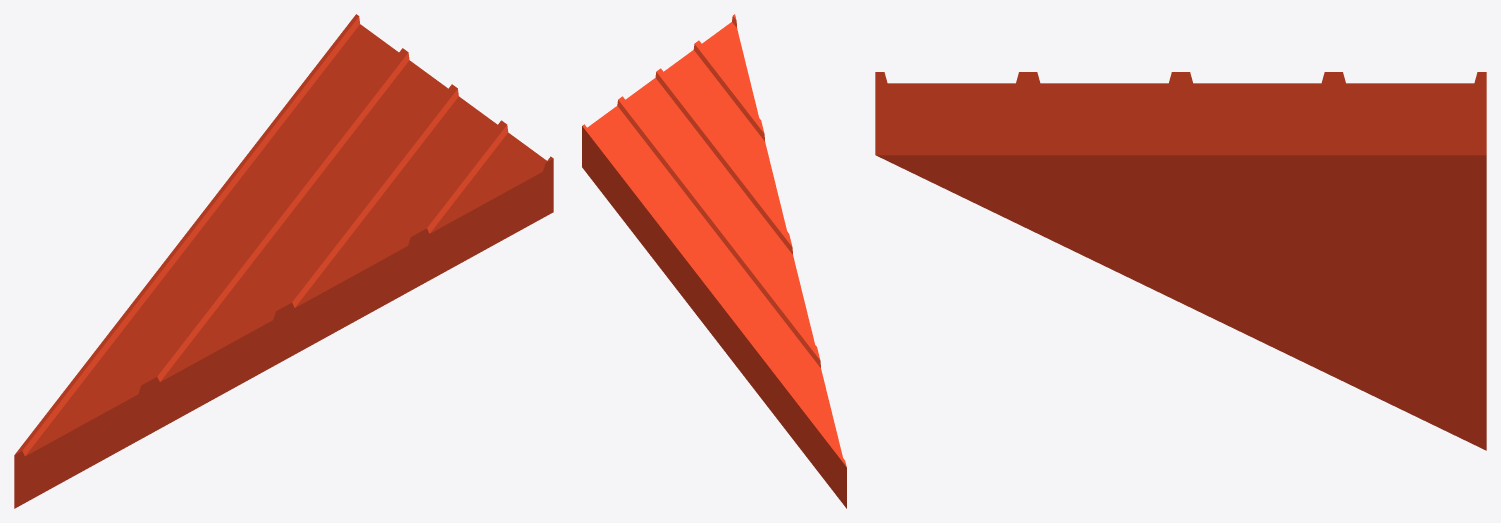
File: roof-metal-regular-2x2m-diagonal.fbx
3 renders of one model, left to right at view 1: azimuth 30°, elevation 25°; view 2: azimuth 150°, elevation 25°; view 3: azimuth 270°, elevation 25°, orthographic. The views are drawn at different scales.
Parts seen in each view (by area): view 1: roof-metal-regular-2x2m-diagonal; view 2: roof-metal-regular-2x2m-diagonal; view 3: roof-metal-regular-2x2m-diagonal.
Part boxes in pixels (bbox=[...]): roof-metal-regular-2x2m-diagonal: bbox=[14, 14, 553, 508]; roof-metal-regular-2x2m-diagonal: bbox=[582, 14, 846, 508]; roof-metal-regular-2x2m-diagonal: bbox=[875, 72, 1486, 450].
Size of the model in its own units: 2 by 2.3 by 2.
